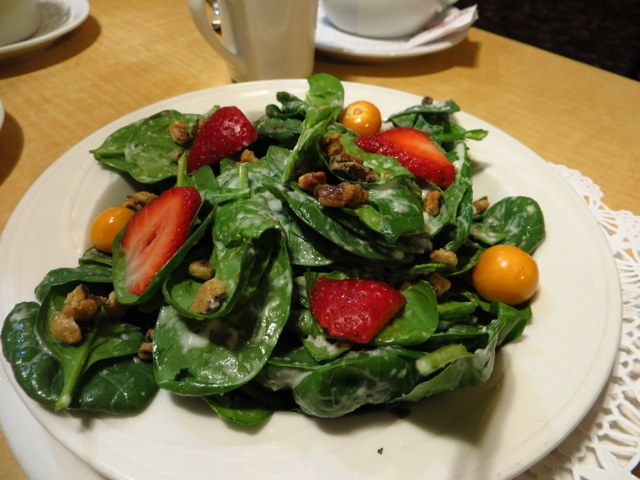tomato: (471, 244, 539, 302), (90, 207, 133, 248), (337, 100, 381, 135)
